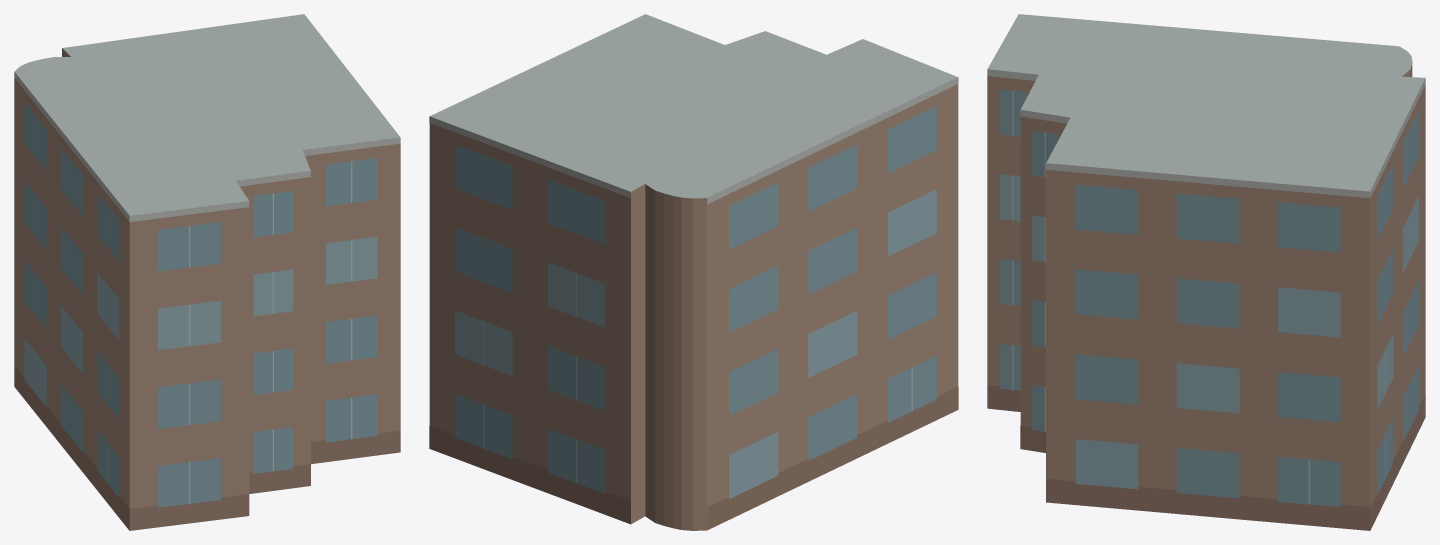
File: survey-upis-32704958.glb
The picture shows the model from 3 angles, left to right: view 1: azimuth 30°, elevation 25°; view 2: azimuth 150°, elevation 25°; view 3: azimuth 270°, elevation 25°; orthographic projection. The views are drawn at different scales.
Visible parts, largest first — view 1: survey-upis-32704958.tmp; view 2: survey-upis-32704958.tmp; view 3: survey-upis-32704958.tmp.
Boxes of the visible parts, x1=… form: survey-upis-32704958.tmp: x1=14, y1=14, x2=400, y2=530; survey-upis-32704958.tmp: x1=429, y1=14, x2=958, y2=530; survey-upis-32704958.tmp: x1=987, y1=14, x2=1425, y2=530.
Size of the model in its own units: 13.93 by 12.4 by 14.53.
